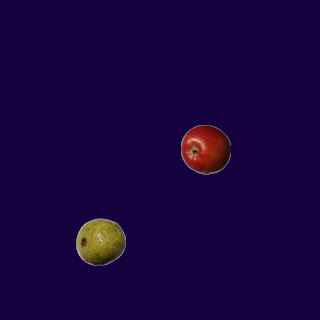Apple Braeburn: (180, 124, 230, 174)
Guava: (75, 216, 125, 266)
